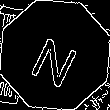N_NE: (26, 24, 84, 86)
